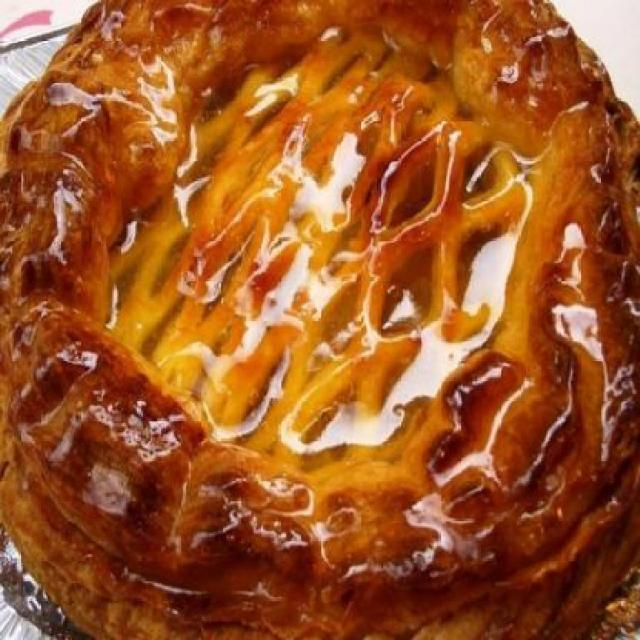Apple: (2, 1, 635, 634)
